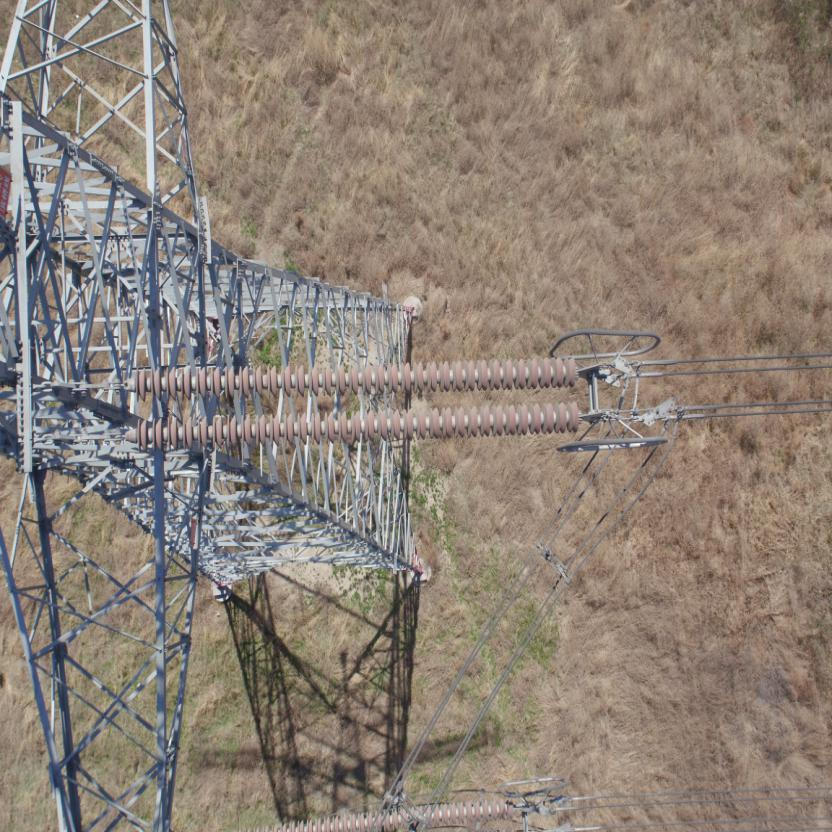insulator: (100, 352, 593, 448)
